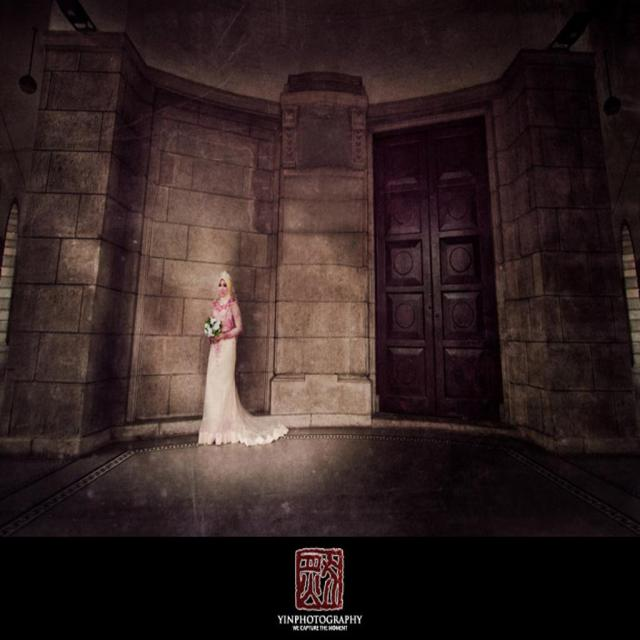nomask: (218, 277, 226, 295)
